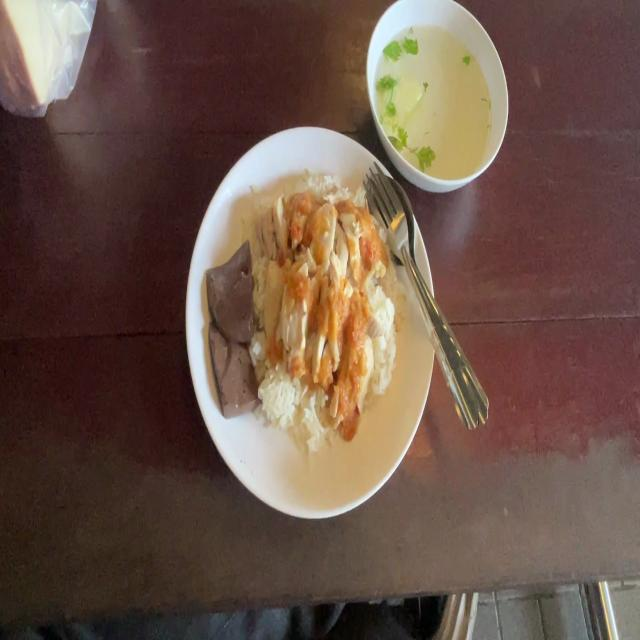boiled_chicken: (262, 202, 374, 398)
boiled_chicken_blood_jelly: (208, 310, 256, 416), (208, 241, 255, 341)
chicken_rice: (211, 182, 387, 450)
